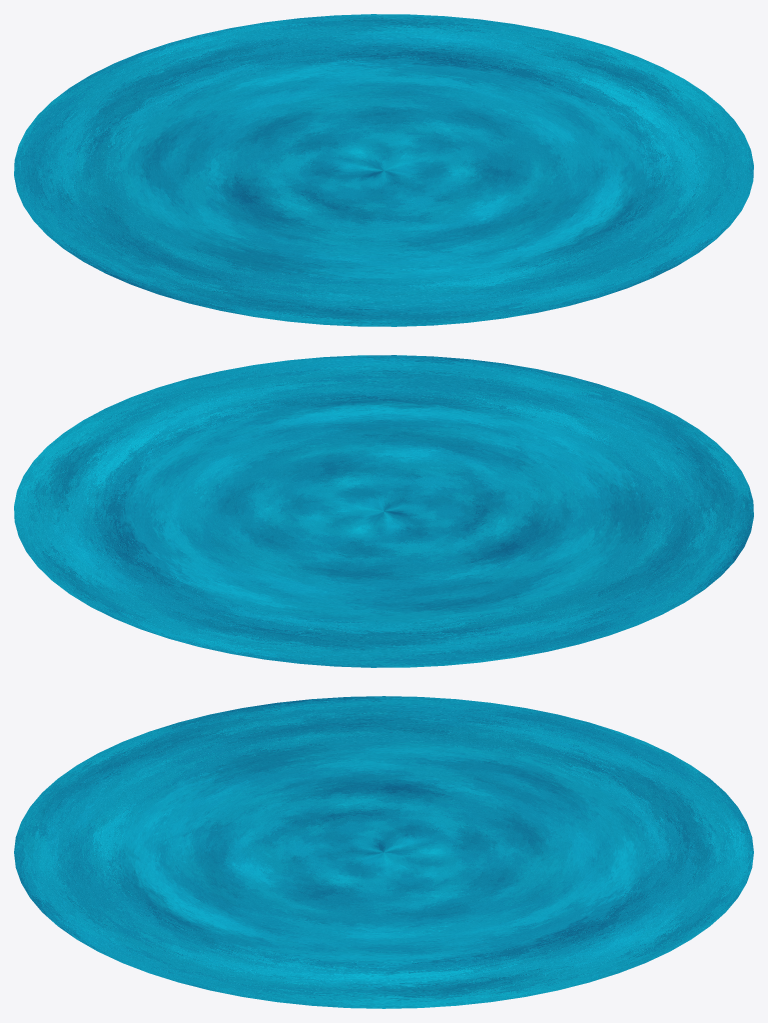
Rendered from Water_Circle_3_Highpoly.fbx.
3 renders of one model, top to bottom at view 1: azimuth 30°, elevation 25°; view 2: azimuth 150°, elevation 25°; view 3: azimuth 270°, elevation 25°, orthographic.
Visible parts, largest first — view 1: Water_Circle_3_Highpoly; view 2: Water_Circle_3_Highpoly; view 3: Water_Circle_3_Highpoly.
Boxes of the visible parts, bbox=[...] form: Water_Circle_3_Highpoly: bbox=[14, 14, 753, 326]; Water_Circle_3_Highpoly: bbox=[14, 355, 753, 667]; Water_Circle_3_Highpoly: bbox=[14, 696, 753, 1008].
Size of the model in its own units: 4053 by 8.67e-06 by 4053.
